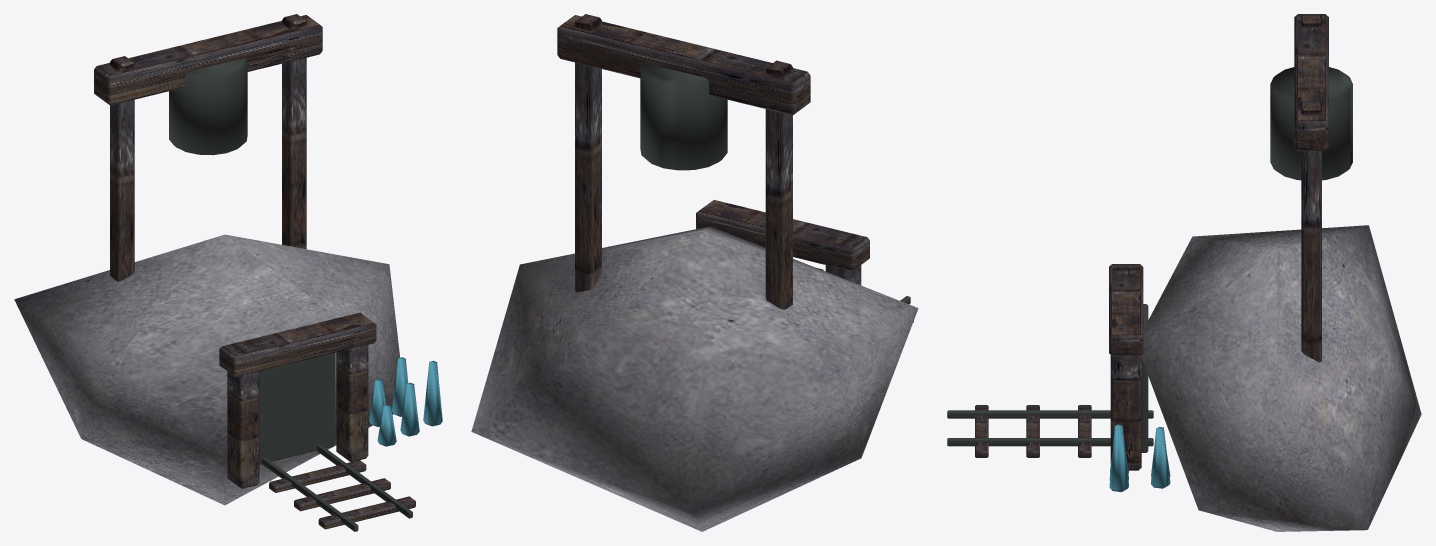
Rendered from env-site-deepMine-mobile.glb.
The picture shows the model from 3 angles, left to right: view 1: azimuth 30°, elevation 25°; view 2: azimuth 150°, elevation 25°; view 3: azimuth 270°, elevation 25°; orthographic projection. The views are drawn at different scales.
Visible parts, largest first — view 1: site deepMine · authored textured miniature; view 2: site deepMine · authored textured miniature; view 3: site deepMine · authored textured miniature.
Part boxes in pixels (bbox=[...]): site deepMine · authored textured miniature: bbox=[14, 14, 442, 531]; site deepMine · authored textured miniature: bbox=[471, 14, 918, 531]; site deepMine · authored textured miniature: bbox=[947, 14, 1421, 531].
Bounding box in the file's own units: 1.15 × 1.51 × 1.38.
4 materials, 2 textured.
